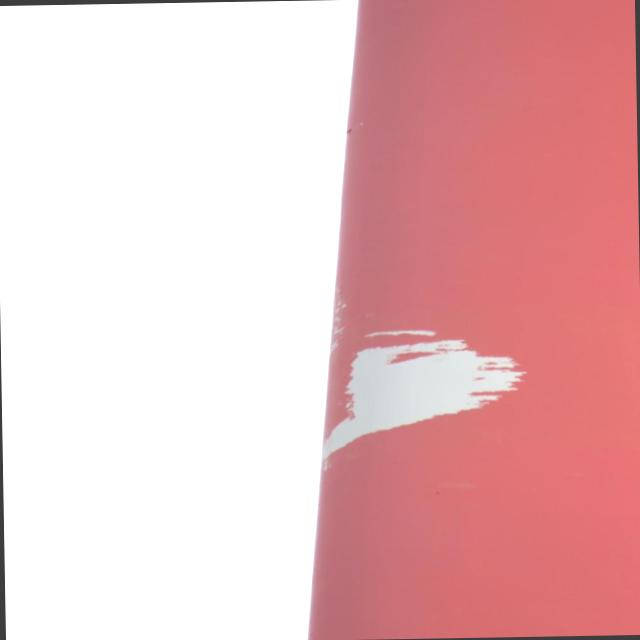corrosion: (315, 324, 530, 466)
